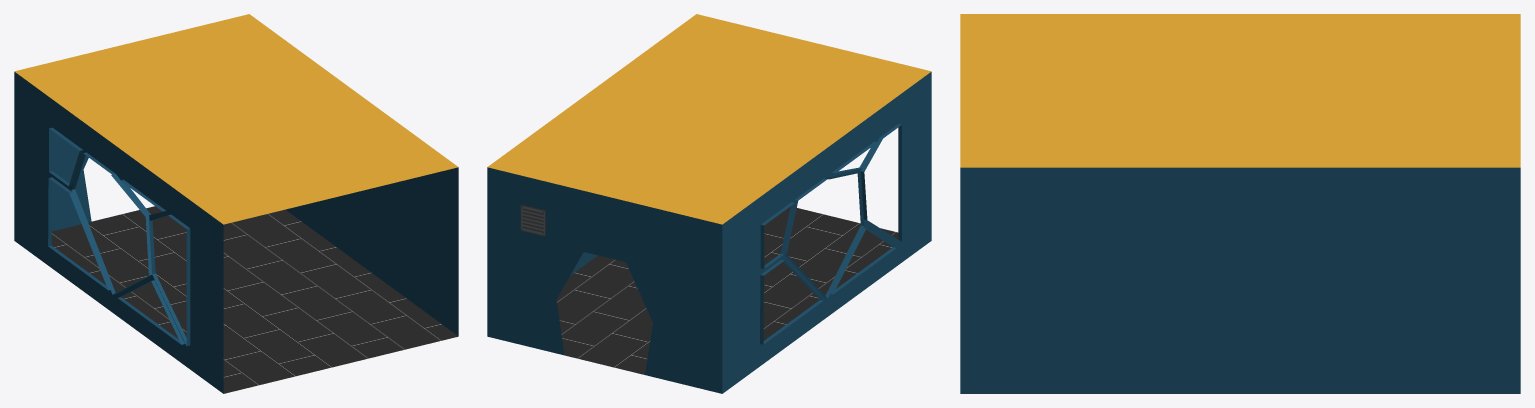
File: Room.fbx
3 renders of one model, left to right at view 1: azimuth 30°, elevation 25°; view 2: azimuth 150°, elevation 25°; view 3: azimuth 270°, elevation 25°, orthographic. The views are drawn at different scales.
Visible parts, largest first — view 1: Room; view 2: Room; view 3: Room.
Boxes of the visible parts, bbox=[...] form: Room: bbox=[14, 14, 458, 393]; Room: bbox=[487, 14, 931, 393]; Room: bbox=[960, 14, 1520, 393].
Size of the model in its own units: 2450 by 1651 by 3700.
